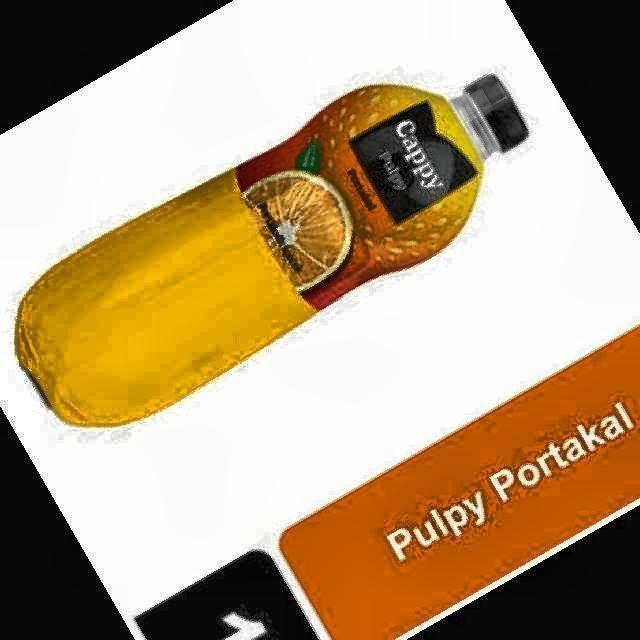plastic: (16, 75, 528, 426)
